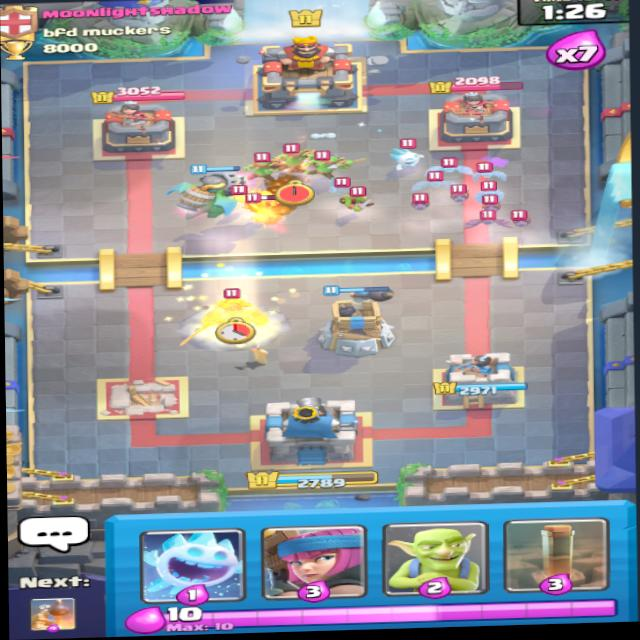Bat: (478, 190, 508, 217), (468, 206, 506, 227), (504, 211, 538, 233)
Goblin: (336, 182, 375, 218)
Goldenknight: (185, 285, 271, 347)
Icespirit: (392, 138, 433, 174)
Speargoblin: (313, 147, 363, 182), (236, 143, 275, 185), (273, 141, 312, 174)
